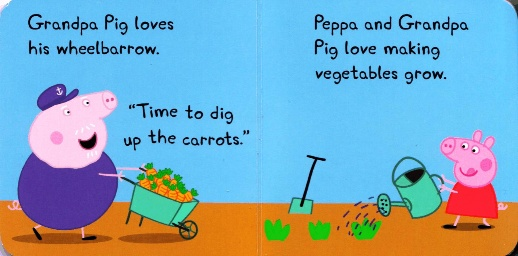Peppa: (438, 128, 510, 231)
